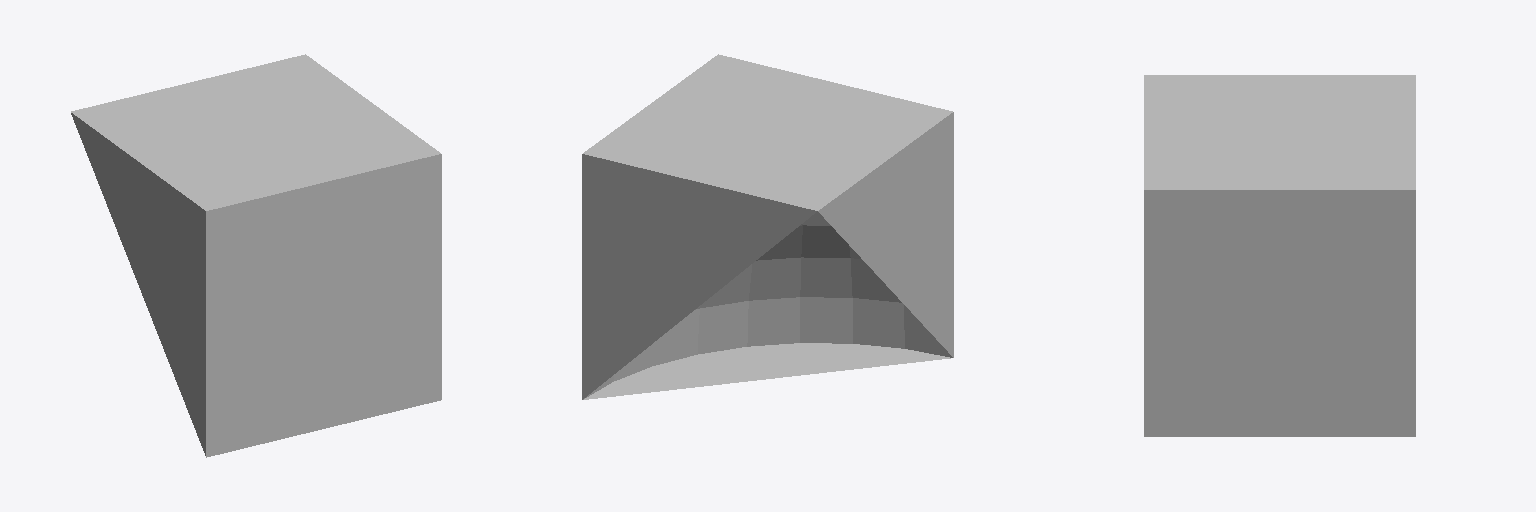
The model's file is cornerquarter1.obj.
3 renders of one model, left to right at view 1: azimuth 30°, elevation 25°; view 2: azimuth 150°, elevation 25°; view 3: azimuth 270°, elevation 25°, orthographic.
Visible parts, largest first — view 1: Cube; view 2: Cube; view 3: Cube.
Boxes of the visible parts, x1,y1,x2,y2 form: Cube: [71, 54, 441, 457]; Cube: [582, 54, 953, 399]; Cube: [1144, 75, 1415, 436].
Size of the model in its own units: 20 by 20 by 20.